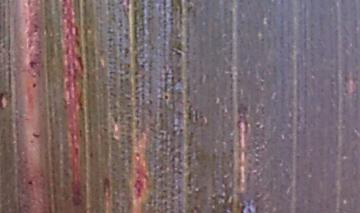tarspot: (161, 91, 172, 104), (25, 177, 35, 188), (30, 80, 39, 90)
